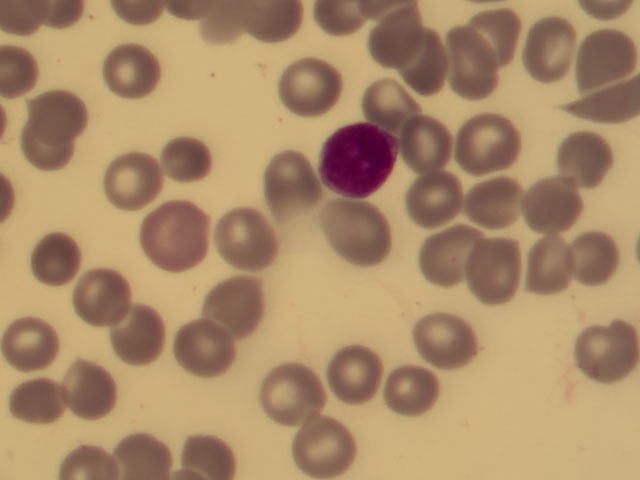RBC: (97, 40, 167, 102), (27, 78, 97, 140), (12, 119, 82, 181), (95, 144, 165, 206), (150, 131, 220, 193), (142, 202, 212, 264), (207, 208, 277, 270), (249, 152, 319, 214), (318, 199, 388, 261), (270, 62, 340, 124), (353, 67, 423, 129), (366, 5, 436, 67), (404, 38, 474, 100), (399, 112, 469, 174), (460, 110, 530, 172), (403, 166, 473, 228), (468, 174, 538, 236), (522, 175, 592, 237), (551, 123, 621, 185), (519, 231, 589, 293), (559, 225, 629, 287), (570, 319, 640, 381), (473, 239, 543, 301), (415, 219, 485, 281), (409, 304, 479, 366), (386, 354, 456, 416), (322, 344, 392, 406), (259, 364, 329, 426), (289, 418, 359, 480), (172, 418, 242, 480), (99, 418, 169, 480), (61, 418, 131, 480), (56, 360, 126, 422), (9, 374, 79, 436), (5, 310, 75, 372), (22, 225, 92, 287), (73, 264, 143, 326), (101, 305, 171, 367), (175, 320, 245, 382), (208, 273, 278, 335), (240, 2, 310, 64), (519, 18, 589, 80), (460, 3, 530, 65), (439, 36, 509, 98), (570, 25, 640, 87)
WBC: (322, 125, 400, 197)
